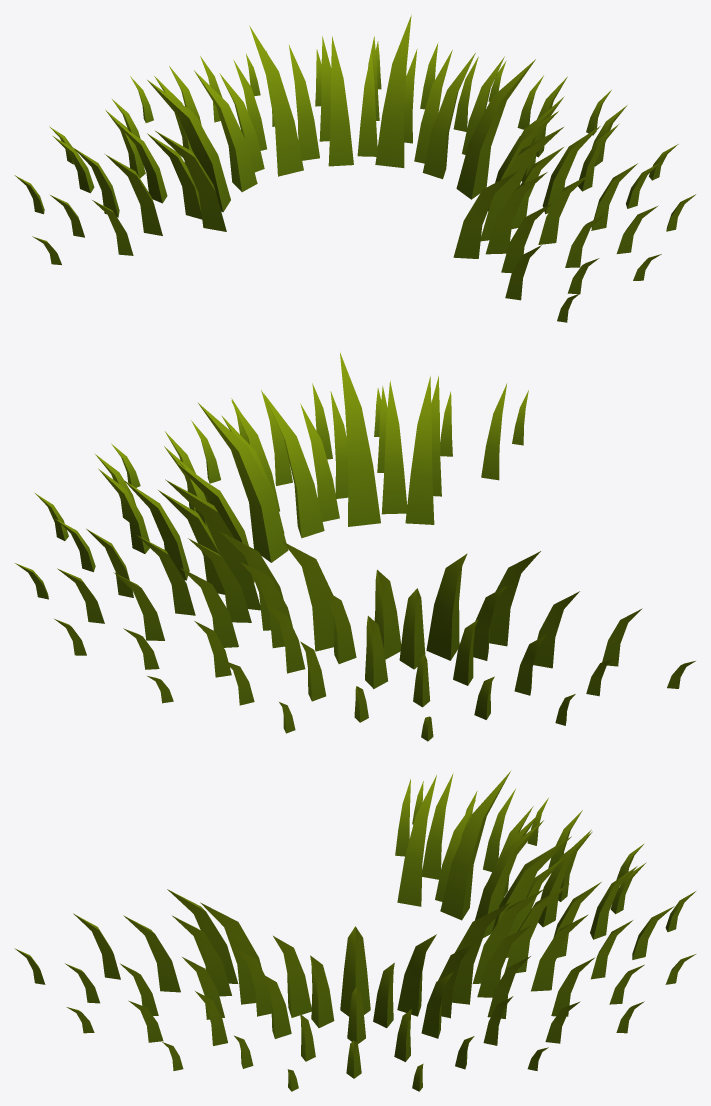
The model's file is GrassCorner.fbx.
3 views of the same model, one above another, from view 1: azimuth 30°, elevation 25°; view 2: azimuth 150°, elevation 25°; view 3: azimuth 270°, elevation 25° (orthographic). The views are drawn at different scales.
Parts seen in each view (by area): view 1: GrassCorner; view 2: GrassCorner; view 3: GrassCorner.
Part boxes in pixels (x1,y1,x2,y2): GrassCorner: [14, 14, 695, 322]; GrassCorner: [15, 352, 695, 741]; GrassCorner: [14, 771, 695, 1091].
Bounding box in the file's own units: 4.24 × 0.8243 × 4.24.
